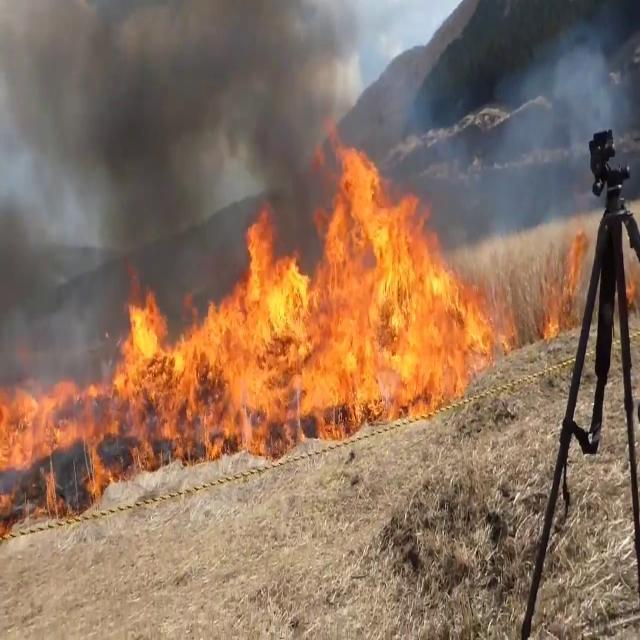Fire: (202, 128, 502, 470), (1, 272, 197, 548)
Smoke: (0, 0, 354, 342), (483, 13, 640, 225)
